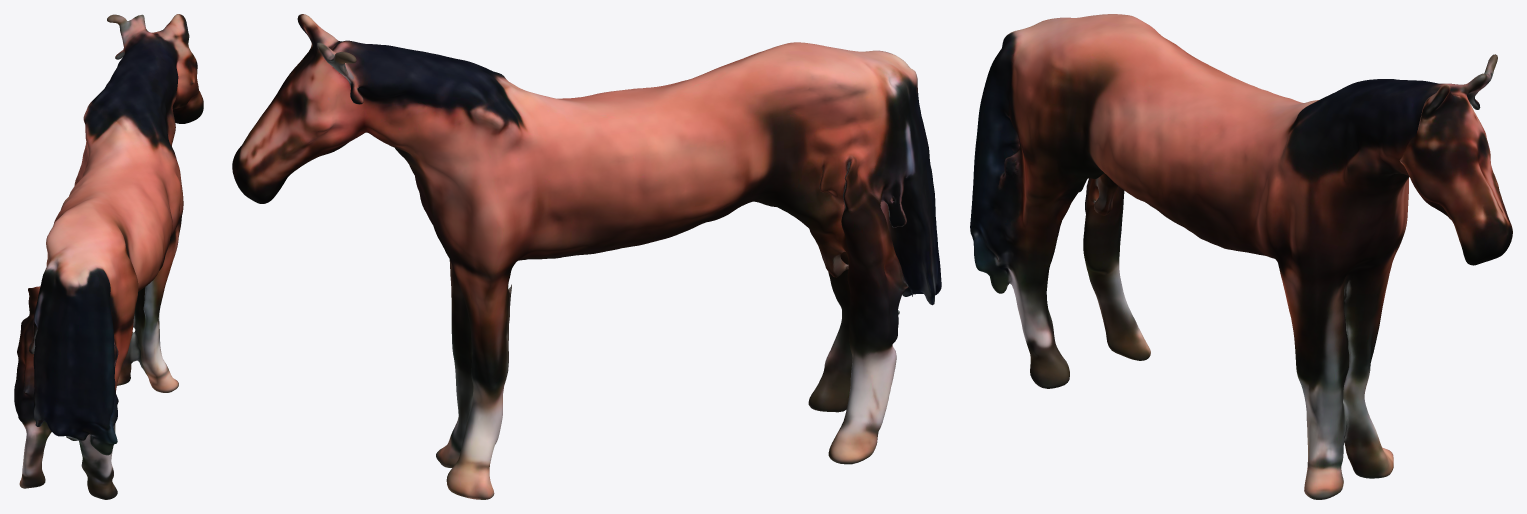
Rendered from horse.glb.
3 renders of one model, left to right at view 1: azimuth 30°, elevation 25°; view 2: azimuth 150°, elevation 25°; view 3: azimuth 270°, elevation 25°, orthographic. The views are drawn at different scales.
Parts seen in each view (by area): view 1: world; view 2: world; view 3: world.
Part boxes in pixels (<box>): world: <box>14,14,203,499</box>; world: <box>232,14,941,499</box>; world: <box>970,14,1512,499</box>.
Size of the model in its own units: 0.4177 by 0.4034 by 0.4414.
Materials: 1 (1 with a texture image).
